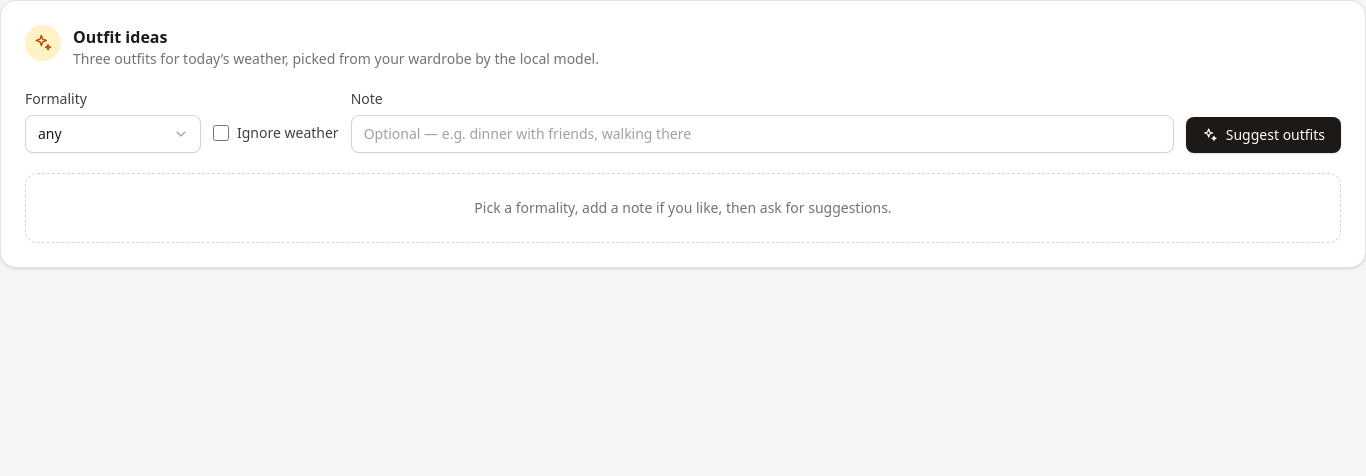
Scenario: ING-050 - recommendation panel › AC7: replaces the old outfits when the user asks again
The width and height of the screenshot is (1366, 476).
Click the button "Suggest outfits". click: (1263, 135)
box: [1186,117,1341,153]
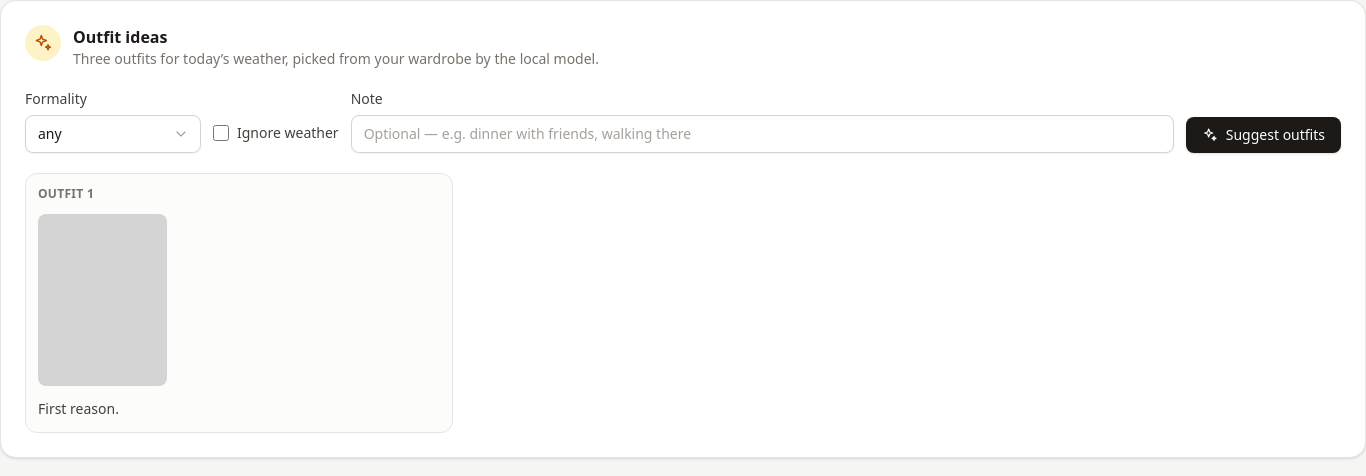
Check: the text "First reason." is shown, box [38,398,119,418]
Check: the number of list items is 1, box [25,173,453,433]
Click the button "Suggest outfits". click: (1263, 135)
box: [1186,117,1341,153]
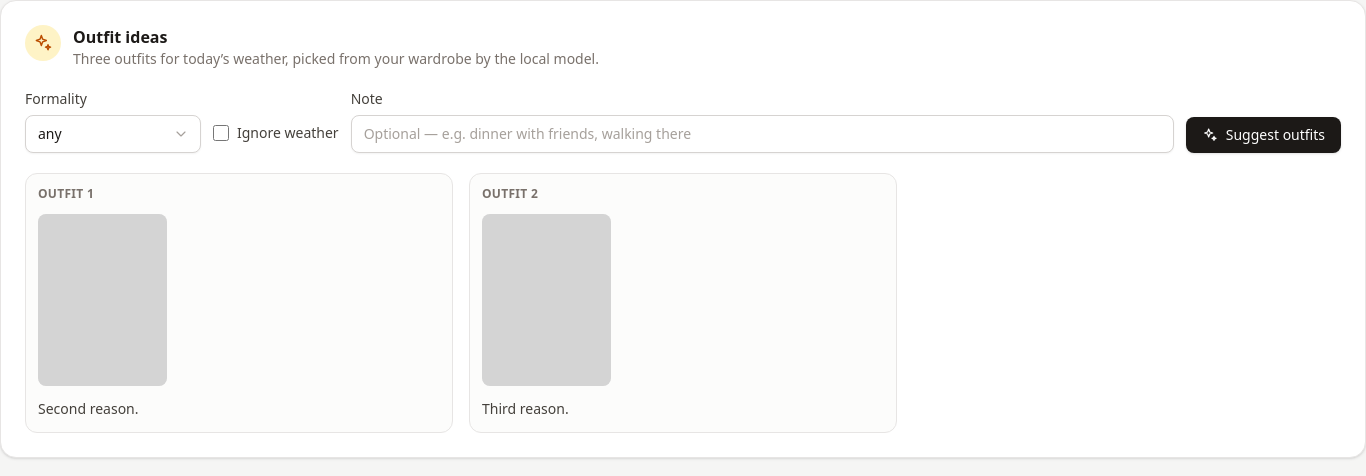
Check: the text "Second reason." is shown, box [38,398,138,418]
Check: the text "Third reason." is shown, box [482,398,569,418]
Check: the text "First reason." is gone
